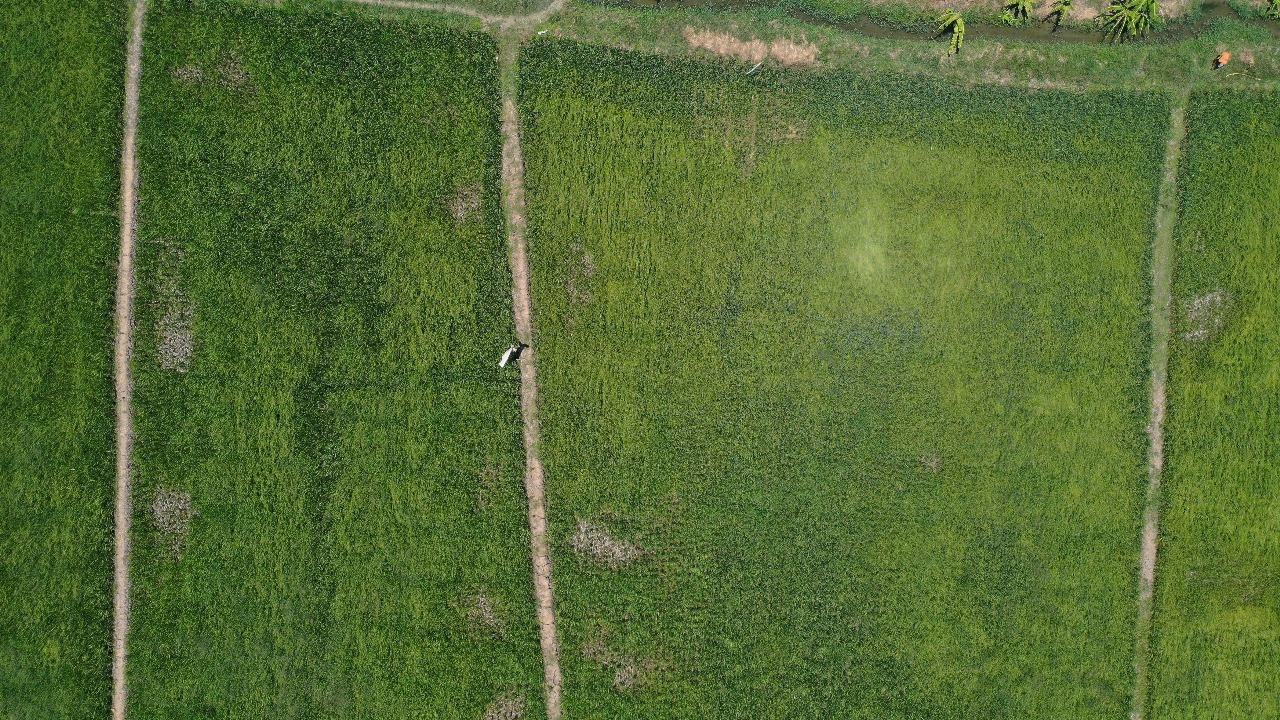irigation: (344, 1, 1280, 92), (1120, 91, 1200, 720), (495, 40, 566, 720), (100, 1, 153, 720)
